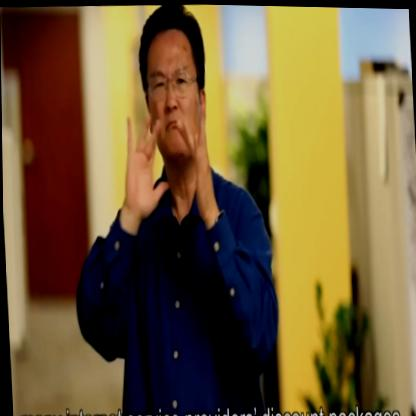Internet: (116, 85, 222, 250)
